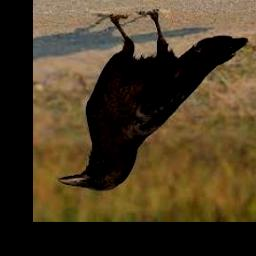Crow: (58, 10, 248, 191)
